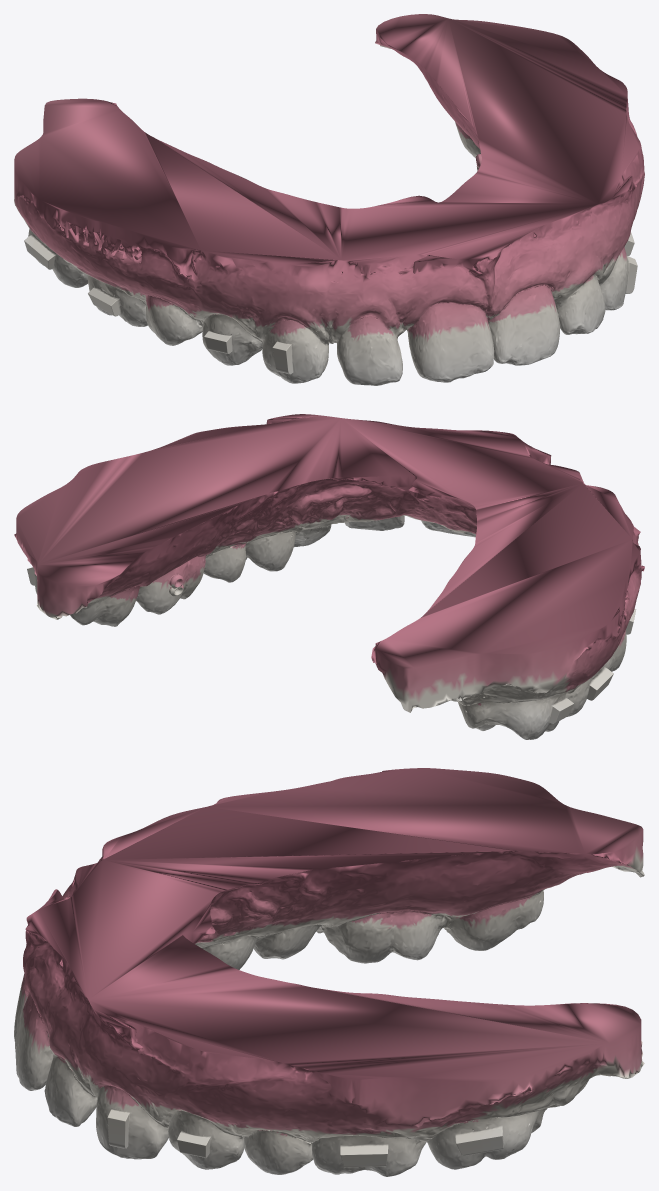
The model's file is Niya Priority Upper jaw - 08 - Model.glb.
3 renders of one model, top to bottom at view 1: azimuth 30°, elevation 25°; view 2: azimuth 150°, elevation 25°; view 3: azimuth 270°, elevation 25°, orthographic. The views are drawn at different scales.
Visible parts, largest first — view 1: Niya Priority Upper jaw - 08 - Model; view 2: Niya Priority Upper jaw - 08 - Model; view 3: Niya Priority Upper jaw - 08 - Model.
Part boxes in pixels (x1=…): Niya Priority Upper jaw - 08 - Model: x1=14, y1=14, x2=644, y2=385; Niya Priority Upper jaw - 08 - Model: x1=14, y1=414, x2=644, y2=739; Niya Priority Upper jaw - 08 - Model: x1=14, y1=768, x2=644, y2=1176.
Bounding box in the file's own units: 66.35 × 13.71 × 56.39.
